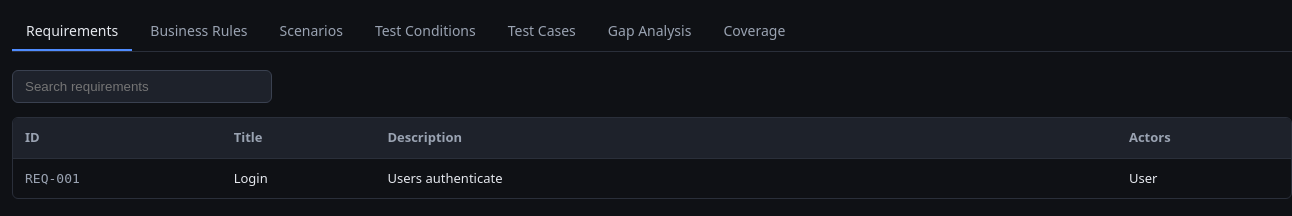
Test: Results › renders scenarios with their category
The image size is (1292, 216).
Click the tab "Scenarios". click: click(311, 32)
box: left=266, top=12, right=357, bottom=51
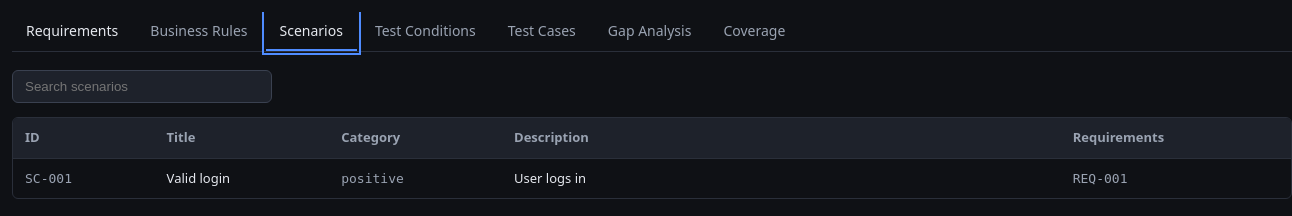
Check: the text "Valid login" is shown, box left=155, top=158, right=329, bottom=198
